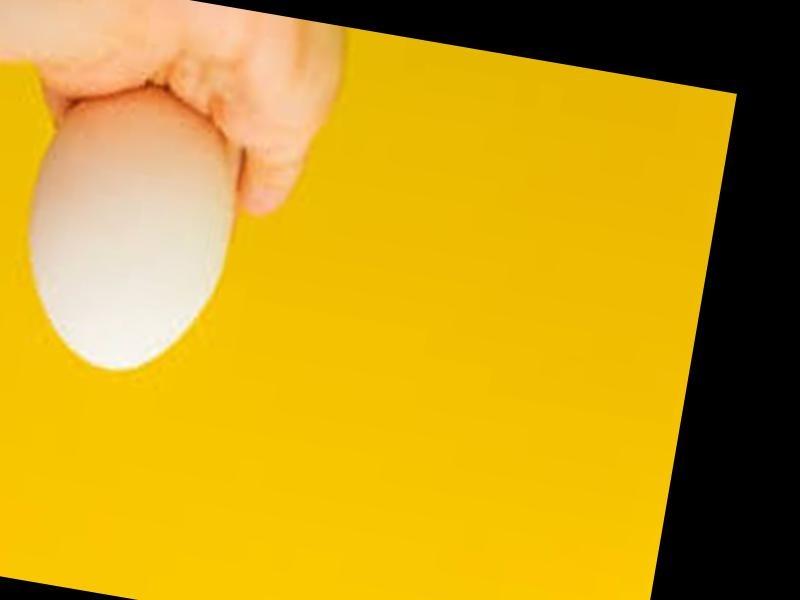Eggs: (13, 74, 251, 387)
